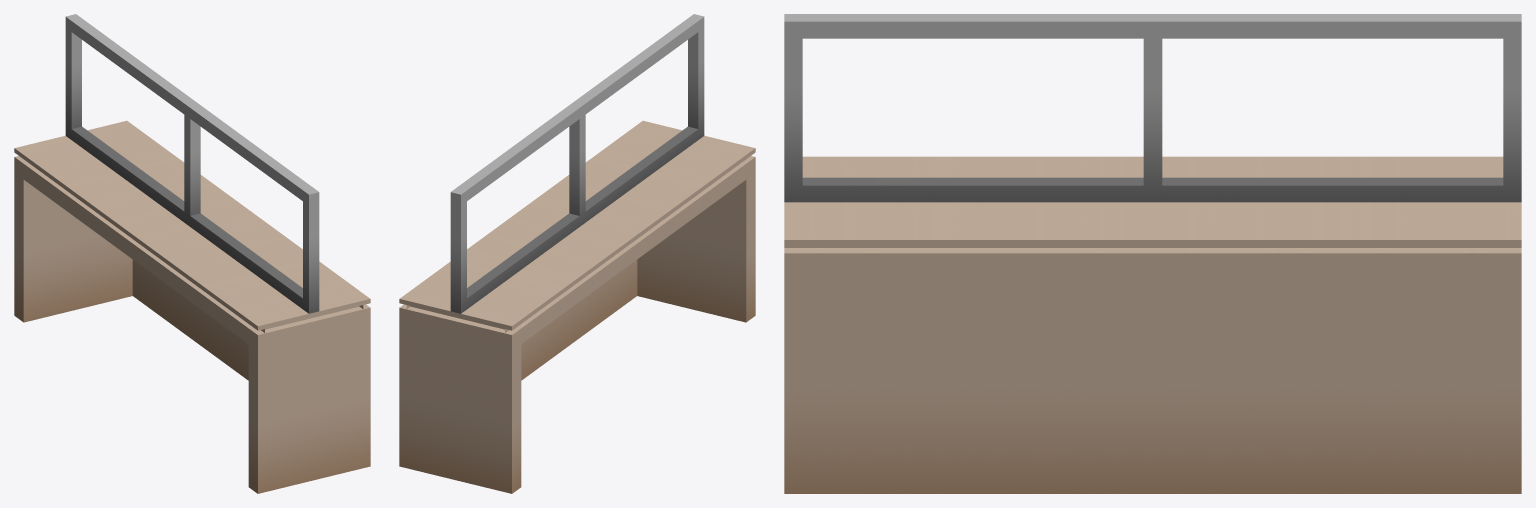
The model's file is Counters.fbx.
3 views of the same model, side by side, from view 1: azimuth 30°, elevation 25°; view 2: azimuth 150°, elevation 25°; view 3: azimuth 270°, elevation 25° (orthographic). The views are drawn at different scales.
Visible parts, largest first — view 1: Counter_Middle, Counter_Left, Counter_Right; view 2: Counter_Middle, Counter_Right, Counter_Left; view 3: Counter_Middle, Counter_Left, Counter_Right.
Part boxes in pixels (box(x1,y1,x2,y2)): Counter_Middle: box(14, 14, 369, 380); Counter_Left: box(136, 108, 370, 493); Counter_Right: box(14, 18, 244, 368); Counter_Middle: box(400, 14, 755, 380); Counter_Right: box(399, 106, 633, 493); Counter_Left: box(529, 20, 755, 322); Counter_Middle: box(784, 14, 1521, 493); Counter_Left: box(784, 21, 1152, 493); Counter_Right: box(1153, 21, 1521, 493).
Size of the model in its own units: 53.42 by 130 by 200.
